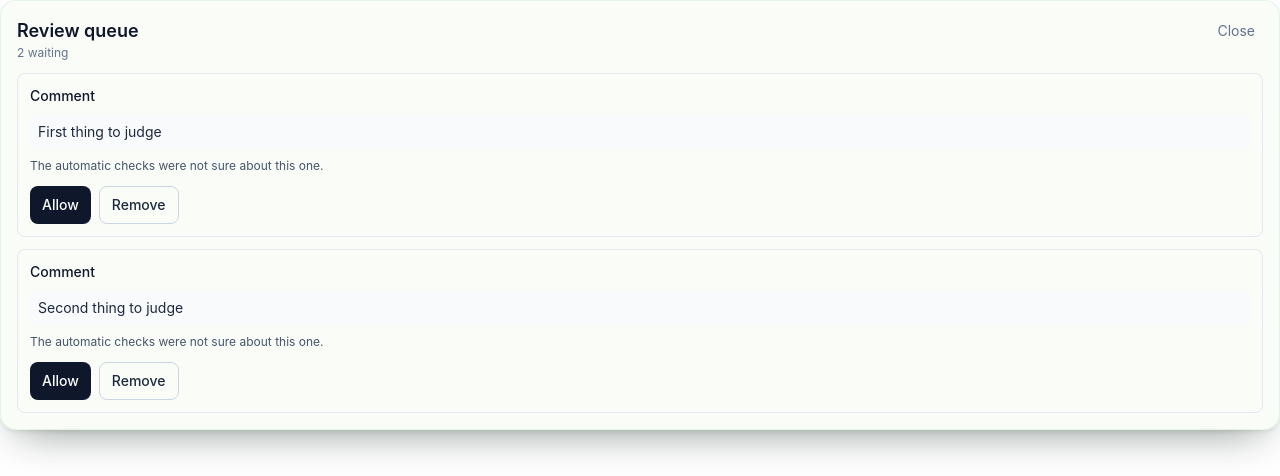
Test case: AdminQueue — a decided item › fades out of the list rather than vanishing when the list reloads
Click the button "Allow" below "First thing to judge" at (60, 205), box [30,186,91,224]
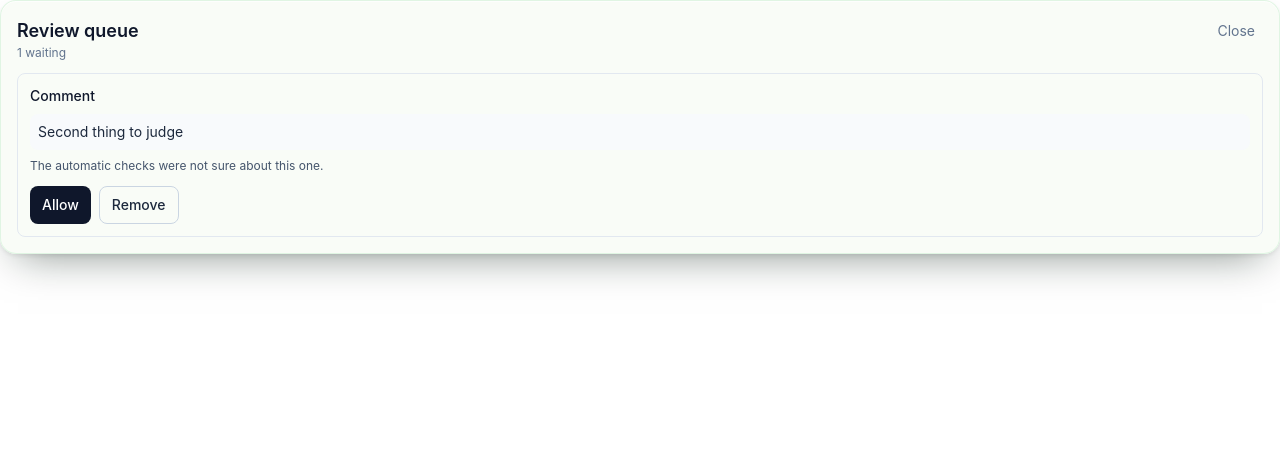
Expected: the text "First thing to judge" is gone
